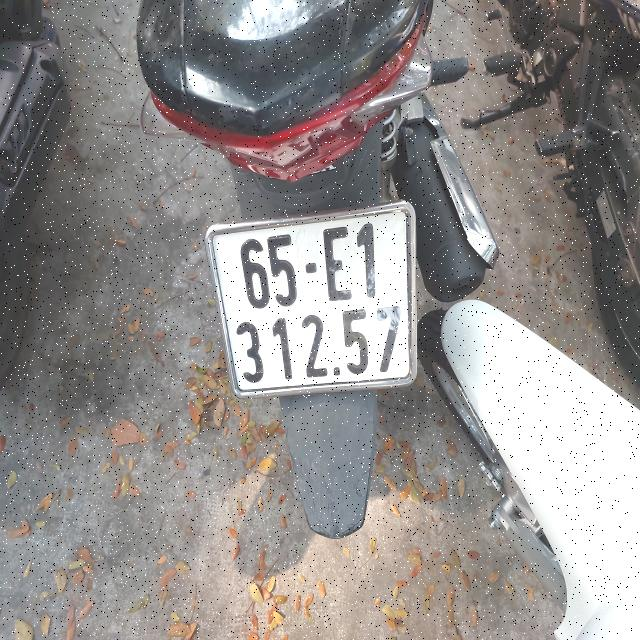1: (269, 311, 296, 381), (358, 226, 380, 302)
2: (302, 312, 328, 380)
3: (234, 324, 266, 382)
5: (269, 231, 301, 311), (342, 306, 370, 374)
6: (238, 232, 270, 320)
7: (376, 301, 402, 378)
E: (322, 220, 354, 306)
